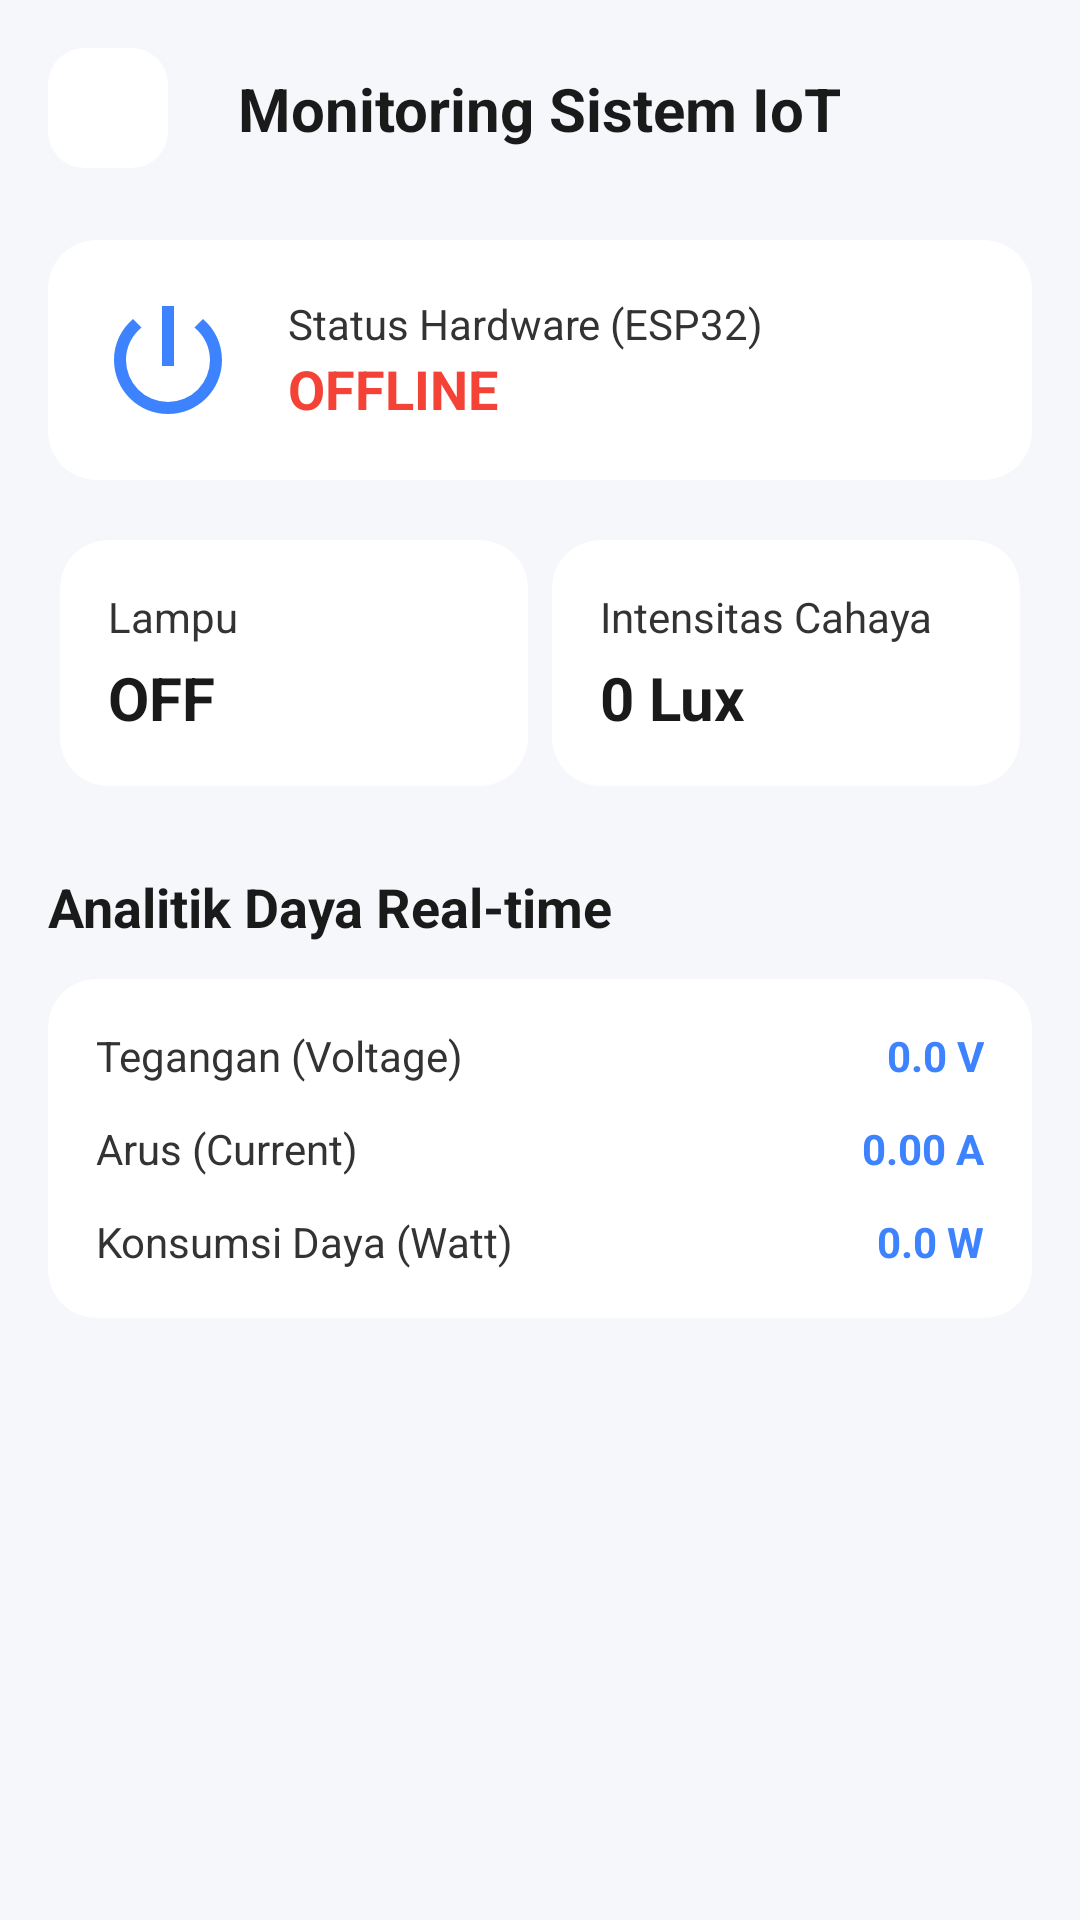

Icon click points for this 1080px x 1920px phone screenshot, format (x=x, y=y):
power: (x=168, y=360)
